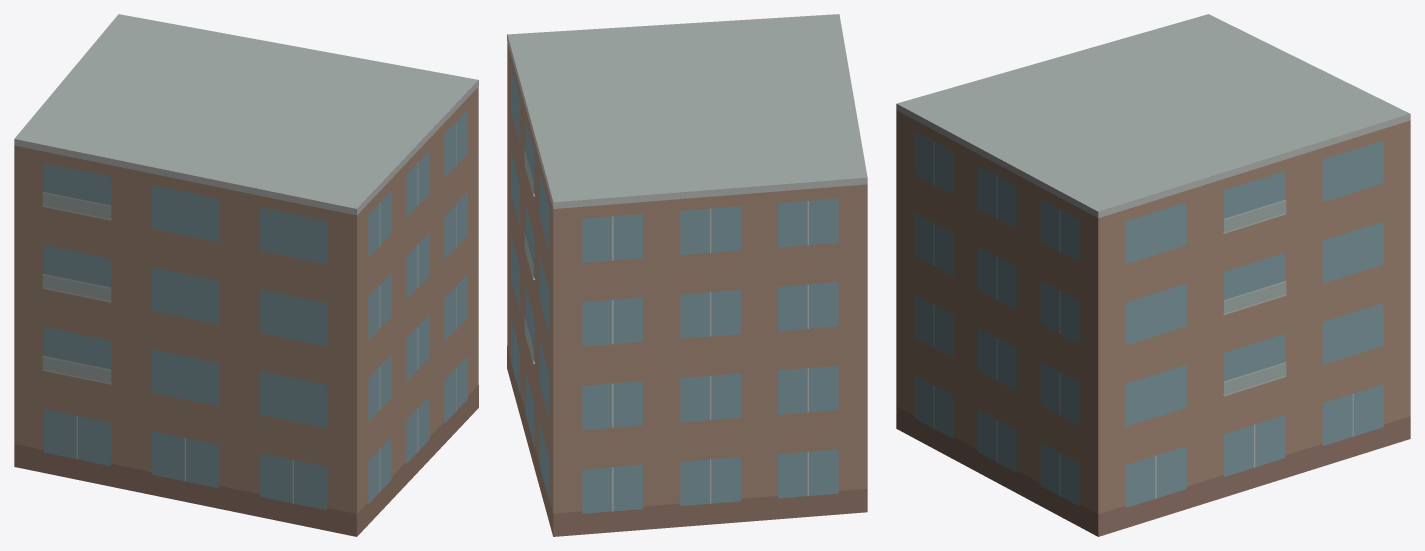
File: residential-4d3a2083-b92e-44c8-abe6-dc1385769478.glb
The picture shows the model from 3 angles, left to right: view 1: azimuth 30°, elevation 25°; view 2: azimuth 150°, elevation 25°; view 3: azimuth 270°, elevation 25°; orthographic projection. The views are drawn at different scales.
Parts seen in each view (by area): view 1: residential-4d3a2083-b92e-44c8-abe6-dc1385769478.tmp; view 2: residential-4d3a2083-b92e-44c8-abe6-dc1385769478.tmp; view 3: residential-4d3a2083-b92e-44c8-abe6-dc1385769478.tmp.
Boxes of the visible parts, <box> form: residential-4d3a2083-b92e-44c8-abe6-dc1385769478.tmp: <box>14,14,478,536</box>; residential-4d3a2083-b92e-44c8-abe6-dc1385769478.tmp: <box>507,14,867,536</box>; residential-4d3a2083-b92e-44c8-abe6-dc1385769478.tmp: <box>896,14,1410,536</box>.
Size of the model in its own units: 15.93 by 12.2 by 17.5.
